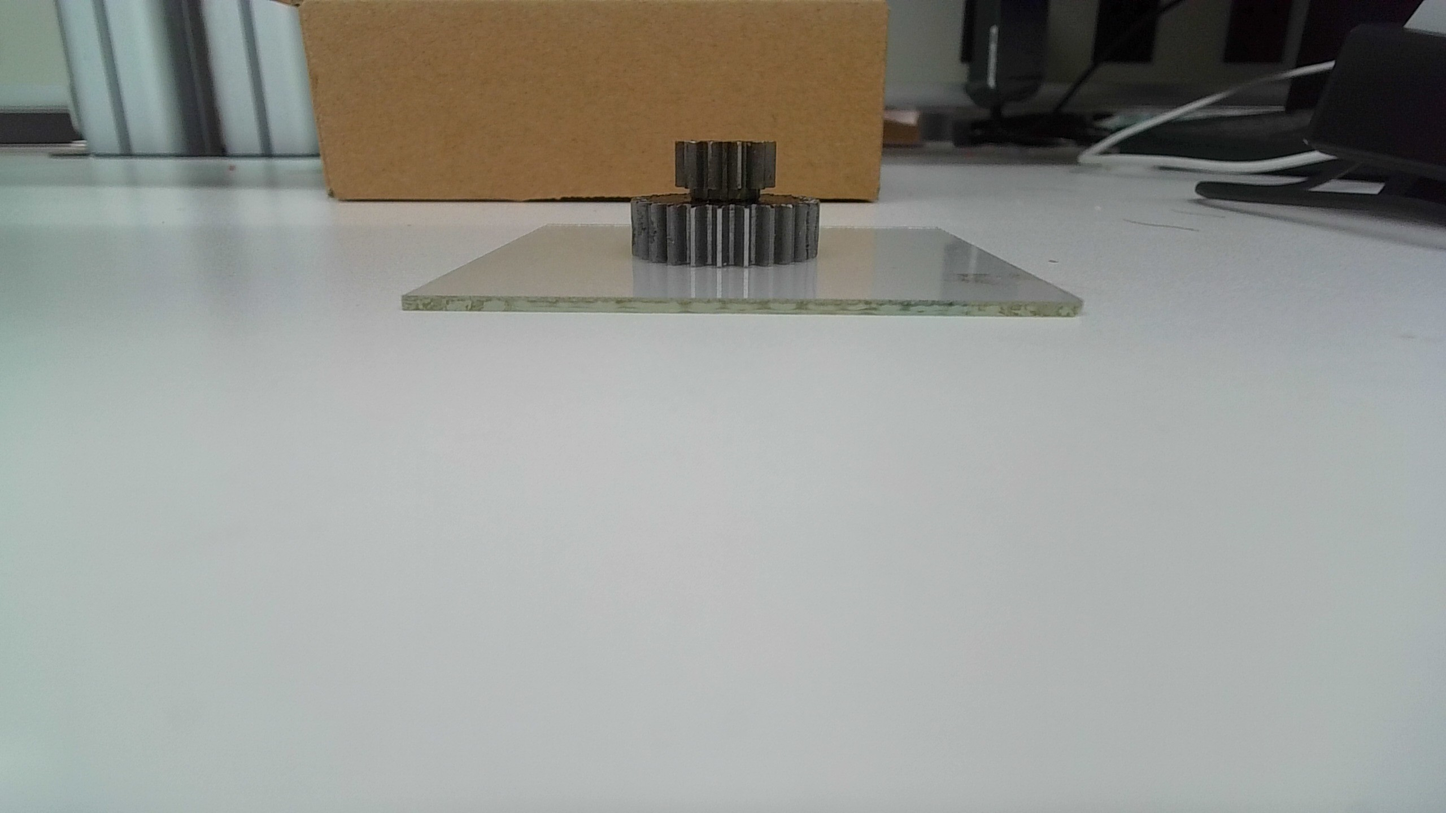gear: (627, 137, 822, 270)
